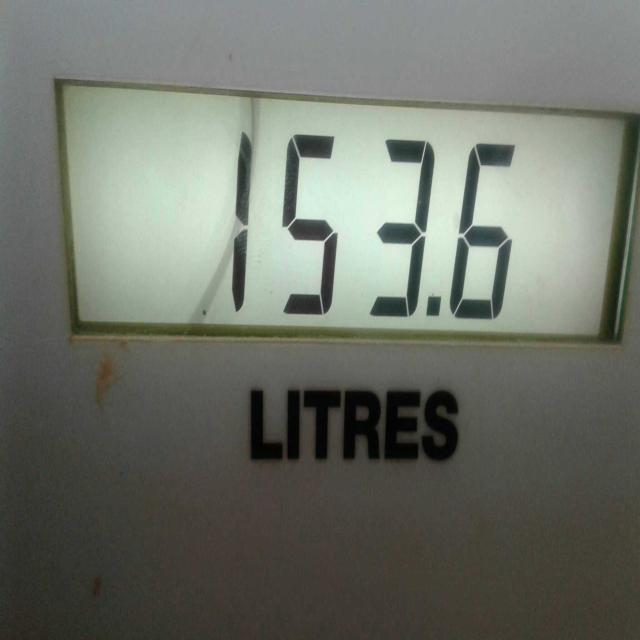.: (422, 271, 461, 350)
1: (222, 116, 271, 312)
3: (366, 126, 430, 326)
5: (282, 120, 344, 322)
6: (448, 152, 536, 334)
